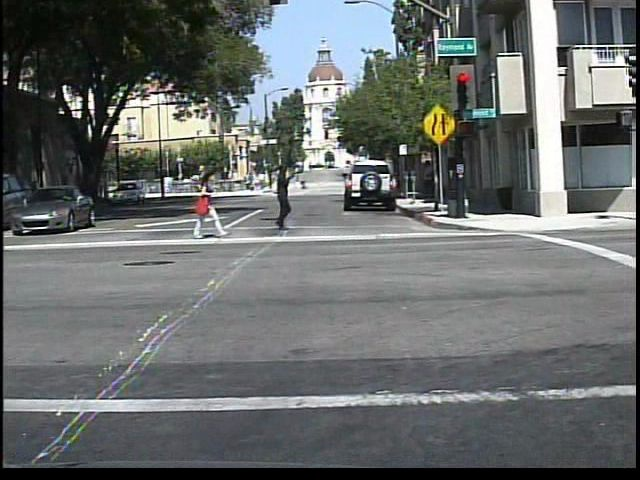person: (186, 166, 228, 241), (261, 161, 301, 233), (272, 171, 289, 192), (300, 175, 309, 192)
